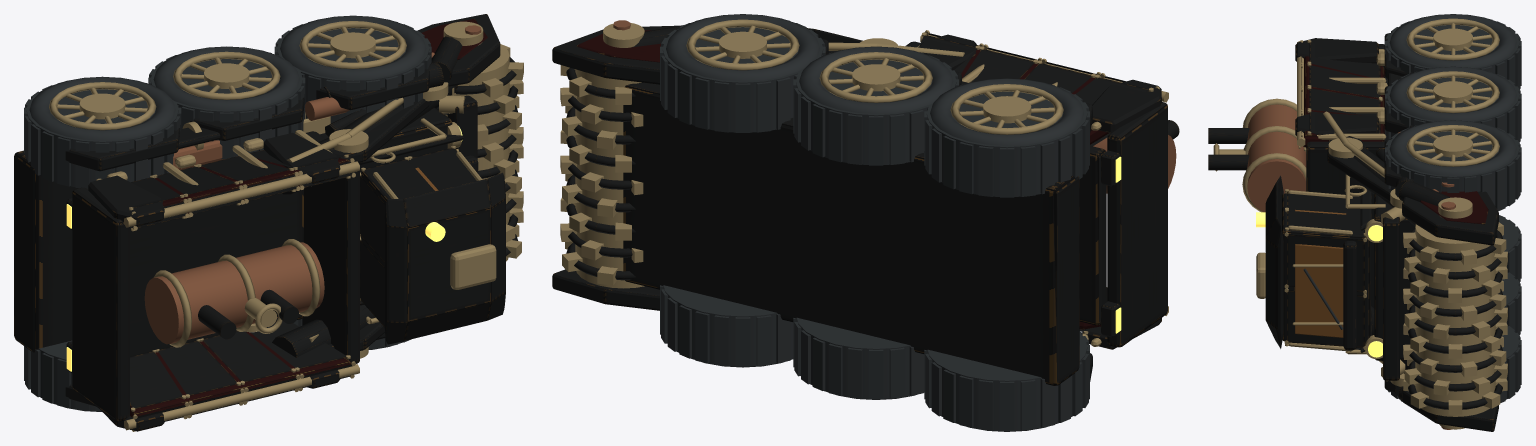
Rendered from harvester-high.glb.
3 renders of one model, left to right at view 1: azimuth 30°, elevation 25°; view 2: azimuth 150°, elevation 25°; view 3: azimuth 270°, elevation 25°, orthographic. The views are drawn at different scales.
Parts seen in each view (by area): view 1: harvester-root / Riveted iron, harvester-root / Machined brass, harvester-root / Copper feed lines, Wheel 2 1 / Tire rubber, Wheel 1 1 / Tire rubber, Wheel 0 1 / Tire rubber, Mineral intake roller / Machined brass, harvester-root / Burgundy enamel, Wheel 2 1 / Machined brass, Wheel 0 1 / Machined brass, Wheel 1 1 / Machined brass, Wheel 2 -1 / Tire rubber (+2 smaller); view 2: harvester-root / Riveted iron, Wheel 2 1 / Tire rubber, Wheel 0 1 / Tire rubber, Wheel 1 1 / Tire rubber, Mineral intake roller / Machined brass, Wheel 2 -1 / Tire rubber, Wheel 0 -1 / Tire rubber, Wheel 1 -1 / Tire rubber, Mineral intake roller / Riveted iron, Wheel 1 1 / Machined brass, Wheel 2 1 / Machined brass, Wheel 0 1 / Machined brass (+3 smaller); view 3: harvester-root / Riveted iron, Mineral intake roller / Machined brass, harvester-root / Machined brass, Wheel 0 1 / Tire rubber, Wheel 1 1 / Tire rubber, Wheel 2 1 / Tire rubber, Mineral intake roller / Riveted iron, harvester-root / Copper feed lines, harvester-root / Amber glazing, Wheel 2 1 / Machined brass, Wheel 1 1 / Machined brass, Wheel 0 1 / Machined brass (+5 smaller).
Boxes of the visible parts, box(x1,y1,x2,y2) form: harvester-root / Riveted iron: box(14, 14, 505, 431); harvester-root / Machined brass: box(96, 21, 496, 431); harvester-root / Copper feed lines: box(144, 25, 481, 344); Wheel 2 1 / Tire rubber: box(24, 76, 181, 188); Wheel 1 1 / Tire rubber: box(148, 46, 305, 159); Wheel 0 1 / Tire rubber: box(274, 15, 431, 123); Mineral intake roller / Machined brass: box(444, 44, 523, 261); harvester-root / Burgundy enamel: box(130, 19, 487, 417); Wheel 2 1 / Machined brass: box(49, 82, 156, 130); Wheel 0 1 / Machined brass: box(299, 21, 406, 68); Wheel 1 1 / Machined brass: box(173, 51, 280, 99); Wheel 2 -1 / Tire rubber: box(24, 340, 102, 411); harvester-root / Riveted iron: box(552, 25, 1179, 385); Wheel 2 1 / Tire rubber: box(924, 78, 1089, 197); Wheel 0 1 / Tire rubber: box(660, 14, 825, 132); Wheel 1 1 / Tire rubber: box(793, 46, 958, 165); Mineral intake roller / Machined brass: box(560, 65, 644, 288); Wheel 2 -1 / Tire rubber: box(924, 331, 1089, 431); Wheel 0 -1 / Tire rubber: box(660, 285, 793, 367); Wheel 1 -1 / Tire rubber: box(793, 317, 924, 399); Mineral intake roller / Riveted iron: box(566, 67, 635, 280); Wheel 1 1 / Machined brass: box(819, 52, 932, 102); Wheel 2 1 / Machined brass: box(950, 84, 1063, 134); Wheel 0 1 / Machined brass: box(686, 19, 799, 70); harvester-root / Riveted iron: box(1208, 33, 1498, 431); Mineral intake roller / Machined brass: box(1403, 222, 1507, 416); harvester-root / Machined brass: box(1213, 40, 1472, 429); Wheel 0 1 / Tire rubber: box(1385, 120, 1521, 211); Wheel 1 1 / Tire rubber: box(1385, 66, 1521, 142); Wheel 2 1 / Tire rubber: box(1385, 14, 1521, 89); Mineral intake roller / Riveted iron: box(1408, 228, 1502, 409); harvester-root / Copper feed lines: box(1247, 104, 1455, 429); harvester-root / Amber glazing: box(1294, 209, 1346, 337); Wheel 2 1 / Machined brass: box(1406, 18, 1499, 60); Wheel 1 1 / Machined brass: box(1406, 71, 1499, 113); Wheel 0 1 / Machined brass: box(1406, 125, 1499, 166).
Bounding box in the file's own units: 1.52 × 0.8489 × 0.979.
Materials: 8 (2 with a texture image).
